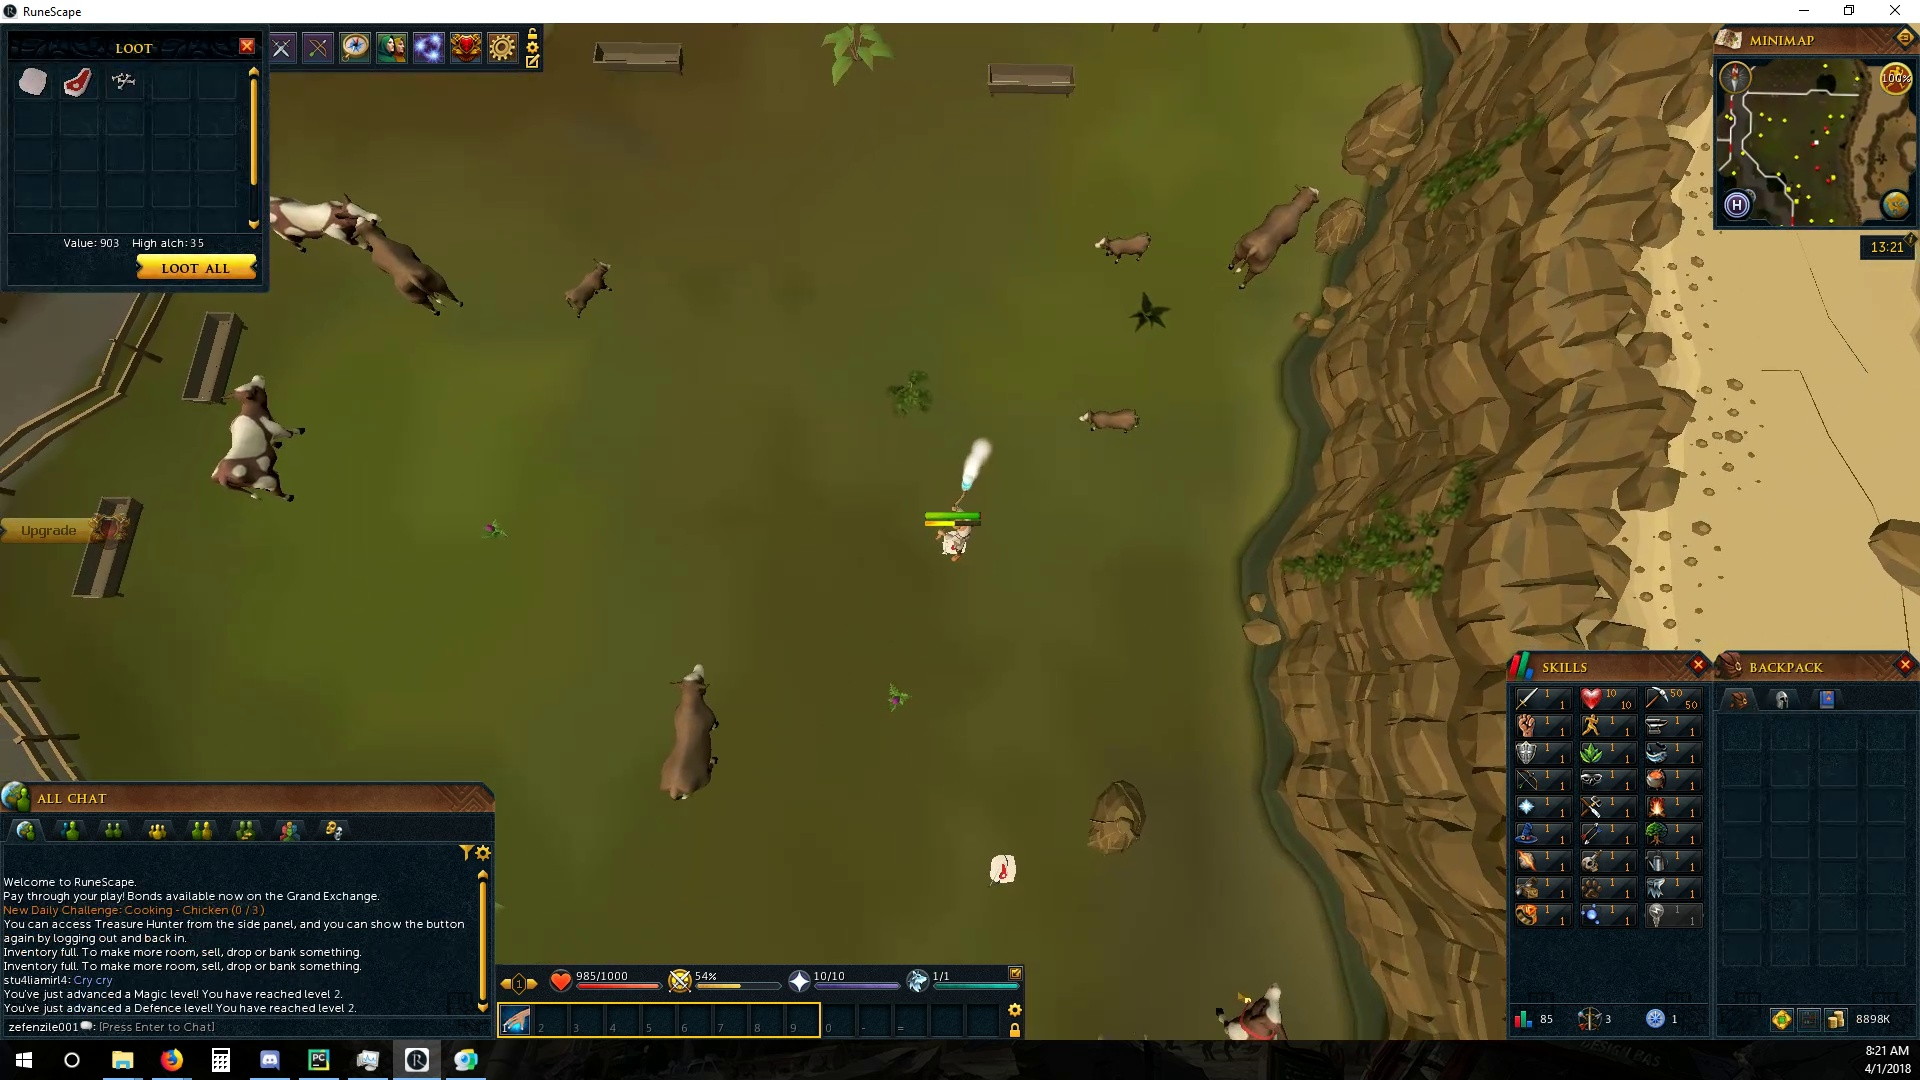calf: (560, 260, 617, 320), (1091, 229, 1158, 266), (1073, 407, 1145, 439)
cow: (208, 373, 309, 505), (1221, 179, 1323, 295), (353, 215, 469, 316), (653, 661, 723, 808), (272, 193, 378, 252)
cow_drop: (990, 851, 1019, 891)
